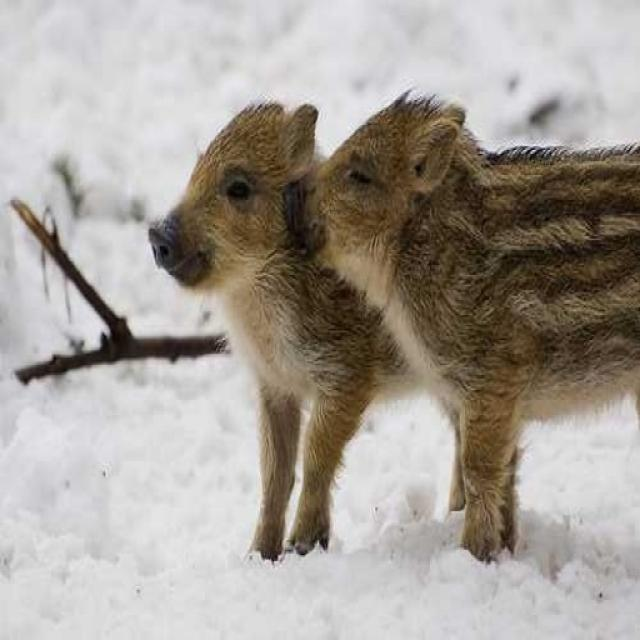pig: (286, 83, 640, 563), (121, 91, 391, 529)
